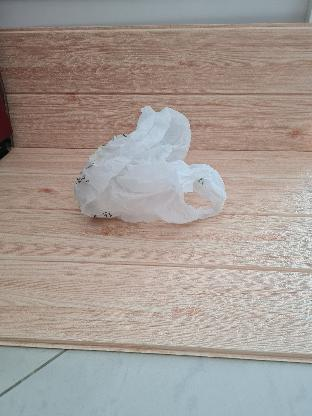Plastic Bag: (76, 106, 228, 224)
